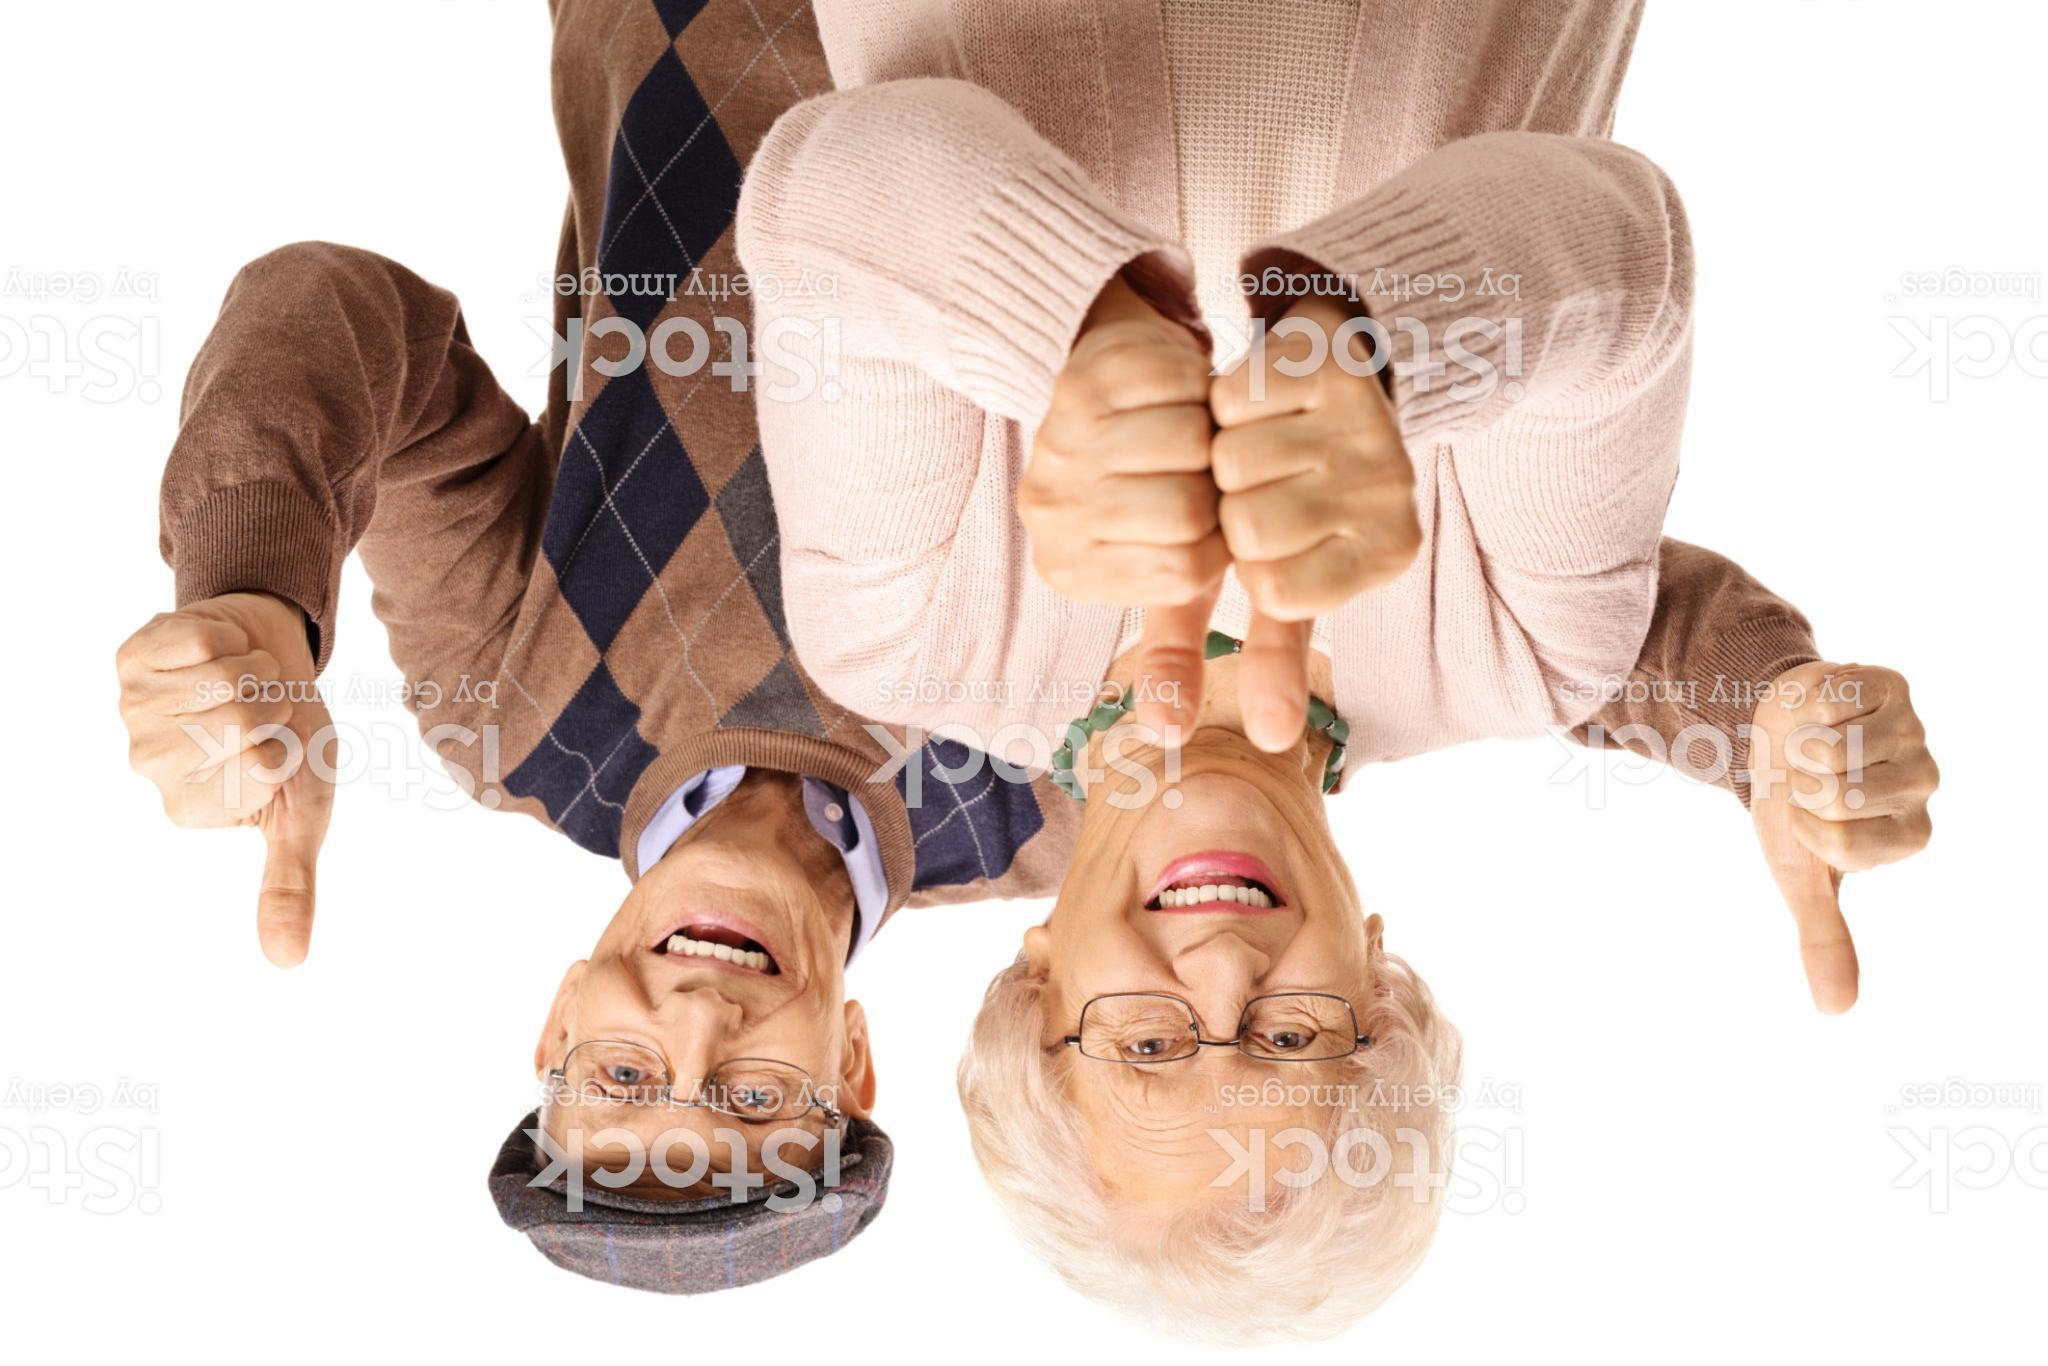thumbsdown: (1208, 320, 1426, 758), (1012, 319, 1224, 752), (111, 588, 343, 973), (1749, 649, 1940, 1017)
